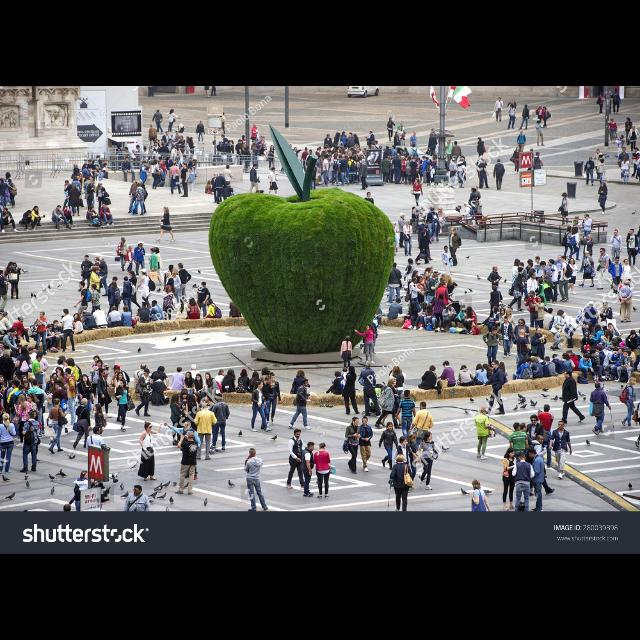head: (528, 448, 536, 460), (134, 485, 142, 497), (472, 480, 481, 490), (564, 370, 572, 380), (491, 360, 499, 370), (531, 416, 539, 426), (507, 448, 515, 458), (400, 436, 408, 446), (393, 366, 401, 376), (352, 418, 360, 428), (307, 442, 315, 452), (302, 378, 310, 388), (187, 394, 195, 404), (144, 422, 152, 432), (94, 426, 102, 436), (30, 410, 38, 420), (55, 380, 63, 390), (18, 394, 26, 404), (26, 394, 34, 404), (518, 318, 526, 328), (557, 422, 565, 431), (520, 423, 528, 432), (294, 429, 302, 438), (188, 432, 196, 441), (184, 422, 192, 431), (81, 472, 89, 481), (27, 412, 35, 421), (12, 379, 20, 388), (479, 407, 487, 415), (513, 423, 521, 431), (536, 436, 544, 444), (518, 454, 526, 462), (396, 455, 404, 463), (425, 433, 433, 441), (409, 436, 417, 444), (419, 403, 427, 411), (389, 379, 397, 387), (319, 442, 327, 450), (257, 382, 265, 390), (216, 393, 224, 401), (204, 395, 212, 403), (172, 395, 180, 403), (99, 369, 107, 377), (2, 414, 10, 422), (67, 359, 75, 367), (31, 379, 39, 387), (18, 346, 26, 354), (10, 329, 18, 337), (476, 364, 484, 372), (583, 354, 591, 362), (544, 404, 550, 414), (250, 449, 256, 459), (270, 374, 276, 384), (182, 390, 188, 400), (65, 368, 71, 378), (95, 404, 102, 412), (32, 379, 40, 386), (37, 351, 44, 359), (8, 328, 15, 336), (562, 354, 570, 361), (387, 422, 393, 431), (630, 378, 636, 386), (405, 390, 411, 398), (390, 378, 396, 386), (362, 417, 368, 425), (266, 377, 272, 385), (202, 402, 208, 410), (195, 392, 201, 400), (144, 369, 150, 377), (120, 380, 126, 388), (118, 372, 124, 380), (97, 359, 103, 367), (94, 356, 100, 364), (82, 374, 88, 382), (60, 356, 66, 364), (57, 367, 63, 375), (0, 382, 6, 390), (37, 354, 43, 362), (4, 350, 10, 358), (18, 316, 24, 324), (53, 320, 59, 328), (151, 300, 157, 308), (186, 372, 192, 380), (196, 374, 202, 382), (220, 369, 226, 377), (334, 372, 342, 378), (552, 354, 560, 360), (567, 350, 573, 358), (558, 312, 566, 318), (558, 310, 564, 318), (536, 328, 542, 336), (492, 328, 498, 336), (506, 308, 512, 316), (427, 305, 433, 313), (422, 302, 428, 310), (518, 262, 524, 270), (528, 262, 534, 270), (540, 261, 546, 269), (600, 248, 606, 256), (82, 399, 88, 406), (54, 399, 60, 406), (68, 359, 74, 366), (78, 282, 85, 288), (84, 255, 90, 262), (205, 374, 211, 381), (228, 369, 234, 376), (444, 362, 451, 368), (590, 349, 596, 356), (519, 329, 525, 336), (595, 383, 601, 389), (365, 362, 371, 368), (349, 367, 355, 373), (154, 374, 160, 380), (58, 360, 64, 366), (52, 374, 58, 380), (51, 378, 57, 384), (57, 376, 63, 382), (19, 386, 25, 392), (3, 313, 9, 319), (40, 312, 46, 318), (46, 325, 52, 331), (63, 309, 69, 315), (8, 262, 14, 268), (12, 263, 18, 269), (74, 314, 80, 320), (94, 307, 100, 313), (91, 284, 97, 290), (94, 267, 100, 273), (112, 278, 118, 284), (129, 272, 135, 278), (141, 269, 147, 275), (138, 241, 144, 247), (150, 248, 156, 254), (154, 247, 160, 253), (163, 206, 169, 212), (111, 307, 117, 313), (124, 307, 130, 313), (166, 286, 172, 292), (166, 273, 172, 279), (173, 269, 179, 275), (169, 265, 175, 271), (177, 264, 183, 270), (114, 367, 120, 373), (141, 364, 147, 370), (158, 367, 164, 373), (177, 367, 183, 373), (191, 365, 197, 371), (241, 370, 247, 376), (253, 372, 259, 378), (298, 371, 304, 377), (345, 336, 351, 342), (366, 325, 372, 331), (368, 318, 374, 324), (430, 366, 436, 372), (461, 365, 467, 371), (482, 364, 488, 370), (500, 363, 506, 369), (526, 358, 532, 364), (618, 349, 624, 355), (623, 352, 629, 358), (588, 301, 594, 307), (603, 303, 609, 309), (622, 279, 628, 285), (548, 308, 554, 314), (500, 309, 506, 315), (493, 307, 499, 313), (467, 307, 473, 313), (461, 306, 467, 312), (446, 304, 452, 310), (396, 298, 402, 304), (391, 262, 397, 268), (408, 259, 414, 265), (404, 220, 410, 226), (400, 213, 406, 219), (421, 231, 427, 237), (450, 228, 456, 234), (412, 278, 418, 284), (417, 276, 423, 282), (414, 271, 420, 277), (424, 271, 430, 277), (433, 274, 439, 280), (442, 283, 448, 289), (445, 276, 451, 282), (493, 266, 499, 272), (518, 267, 524, 273), (529, 291, 535, 297), (538, 296, 544, 302), (537, 278, 543, 284), (531, 273, 537, 279), (535, 257, 541, 263), (549, 260, 555, 266), (561, 256, 567, 262), (629, 229, 635, 235), (567, 226, 573, 232), (574, 216, 580, 222), (584, 214, 590, 220), (562, 193, 568, 199), (600, 158, 606, 164), (132, 180, 138, 186), (138, 180, 144, 186), (98, 182, 104, 188), (89, 180, 95, 186), (182, 163, 188, 169), (202, 282, 206, 290), (504, 317, 508, 325), (342, 368, 348, 372), (33, 350, 39, 354), (0, 270, 4, 276), (9, 263, 13, 269), (82, 312, 88, 316), (100, 257, 104, 263), (124, 277, 128, 283), (142, 302, 146, 308), (190, 298, 194, 304), (208, 299, 212, 305), (532, 358, 536, 364), (536, 357, 540, 363), (546, 357, 550, 363), (625, 282, 631, 286), (440, 294, 444, 300), (412, 302, 416, 308), (392, 223, 396, 229), (424, 225, 430, 229), (438, 207, 442, 213), (464, 202, 468, 208), (472, 188, 476, 194), (367, 192, 371, 198), (444, 246, 448, 252), (492, 286, 498, 290), (516, 259, 520, 265), (528, 260, 532, 266), (558, 256, 562, 262), (570, 259, 574, 265), (586, 251, 590, 257), (616, 257, 620, 263), (624, 260, 628, 266), (614, 230, 618, 236), (588, 234, 592, 240), (574, 227, 578, 233), (634, 148, 640, 152), (632, 126, 636, 132), (520, 130, 524, 136), (482, 160, 486, 166), (479, 156, 483, 162), (460, 156, 466, 160), (448, 138, 452, 144), (368, 131, 374, 135), (254, 164, 258, 170), (226, 182, 230, 188), (214, 173, 218, 179), (170, 108, 174, 114), (66, 206, 70, 212), (56, 206, 62, 210), (34, 206, 38, 212), (28, 210, 32, 216), (4, 208, 8, 214), (0, 178, 4, 184), (72, 185, 78, 189), (624, 279, 628, 285), (94, 258, 98, 262), (113, 282, 117, 286), (122, 238, 126, 242), (129, 247, 133, 251), (234, 298, 238, 302), (430, 208, 434, 212), (476, 202, 480, 206), (416, 179, 420, 183), (602, 183, 606, 187), (624, 157, 628, 161), (622, 148, 626, 152), (589, 157, 593, 161), (596, 150, 600, 154), (620, 135, 624, 139), (626, 118, 630, 122), (614, 89, 618, 93), (537, 120, 541, 124), (511, 104, 515, 108), (512, 99, 516, 103), (498, 97, 502, 101), (536, 152, 540, 156), (530, 149, 534, 153), (516, 147, 520, 151), (497, 159, 501, 163), (478, 138, 482, 142), (452, 159, 456, 163), (454, 141, 458, 145), (430, 133, 434, 137), (412, 144, 416, 148), (404, 148, 408, 152), (392, 146, 396, 150), (362, 160, 366, 164), (272, 168, 276, 172), (220, 172, 224, 176), (208, 181, 212, 185), (271, 145, 275, 149), (254, 124, 258, 128), (156, 110, 160, 114), (136, 184, 140, 188), (102, 204, 106, 208), (90, 206, 94, 210), (8, 180, 12, 184), (6, 176, 10, 180), (189, 168, 193, 172), (173, 162, 177, 166), (154, 160, 158, 164), (125, 158, 129, 162), (143, 162, 147, 166), (422, 156, 426, 160), (386, 146, 389, 150), (396, 132, 399, 136), (400, 126, 402, 132), (227, 165, 230, 169), (222, 112, 225, 116), (476, 187, 478, 191), (612, 119, 614, 123), (608, 88, 610, 92), (602, 93, 604, 97), (544, 107, 546, 111), (540, 106, 542, 110), (526, 105, 528, 109), (414, 131, 416, 135), (400, 122, 402, 126), (390, 118, 392, 122), (256, 126, 258, 130), (200, 121, 202, 125), (150, 124, 152, 128)
person: (164, 421, 202, 481), (120, 484, 152, 554), (524, 434, 556, 498), (137, 421, 167, 482), (386, 454, 414, 518), (510, 452, 536, 520), (173, 430, 199, 496), (243, 448, 269, 512), (408, 401, 434, 464), (374, 376, 404, 429), (558, 369, 586, 425), (588, 382, 616, 436), (312, 442, 338, 500), (482, 359, 508, 416), (508, 422, 530, 488), (548, 421, 572, 481), (358, 360, 382, 420), (194, 402, 218, 462), (472, 406, 498, 460), (378, 378, 406, 428), (416, 431, 439, 491), (470, 478, 492, 540), (286, 428, 308, 490), (20, 411, 42, 473), (525, 448, 545, 516), (50, 358, 78, 406), (500, 447, 520, 513), (208, 392, 230, 452), (514, 422, 538, 476), (394, 390, 418, 444), (288, 378, 312, 432), (391, 436, 413, 494), (8, 384, 30, 442), (250, 381, 274, 434), (89, 368, 113, 420), (11, 394, 34, 448), (114, 378, 136, 434), (47, 398, 69, 454), (26, 378, 46, 439), (85, 425, 106, 483), (525, 414, 545, 474), (342, 416, 362, 474), (29, 378, 49, 436), (536, 404, 554, 468), (378, 421, 400, 471), (7, 379, 26, 436), (618, 376, 638, 430), (23, 408, 42, 464), (1, 413, 18, 475), (404, 433, 422, 491), (72, 398, 92, 450), (13, 347, 33, 398), (341, 365, 361, 415), (134, 368, 154, 418), (76, 374, 96, 424), (511, 318, 531, 368), (264, 373, 282, 427), (431, 292, 454, 334), (68, 470, 92, 510), (89, 359, 108, 409), (529, 327, 547, 379), (358, 415, 374, 473), (184, 394, 200, 452), (354, 324, 376, 366), (482, 327, 504, 369), (64, 358, 84, 404), (28, 311, 48, 357), (73, 281, 93, 327), (506, 267, 526, 313), (91, 355, 109, 405), (300, 442, 316, 498), (176, 388, 192, 444), (516, 328, 532, 384), (136, 268, 156, 312), (404, 276, 424, 320), (595, 247, 615, 291), (1, 348, 18, 399), (169, 393, 185, 447), (52, 380, 68, 434), (2, 328, 26, 364), (125, 270, 144, 314), (114, 372, 130, 424), (582, 300, 600, 346), (500, 308, 518, 354), (32, 351, 49, 399), (108, 364, 132, 398), (64, 358, 80, 408), (54, 375, 70, 425), (24, 394, 40, 444), (436, 282, 456, 322), (156, 206, 177, 244), (322, 371, 346, 404), (600, 301, 618, 345), (548, 308, 566, 352), (385, 262, 403, 306), (528, 295, 546, 339), (540, 260, 558, 304), (92, 403, 108, 452), (31, 353, 47, 402), (34, 323, 60, 353), (133, 362, 153, 400), (360, 318, 380, 356), (437, 360, 457, 398), (559, 311, 579, 349), (532, 278, 552, 316), (578, 250, 598, 288), (260, 376, 274, 430), (558, 255, 574, 302), (614, 350, 636, 384), (390, 366, 406, 412), (56, 355, 72, 401), (524, 290, 540, 336), (202, 394, 216, 446), (190, 392, 204, 444), (65, 368, 77, 428), (53, 367, 69, 411), (60, 308, 76, 352), (89, 266, 105, 310), (195, 282, 211, 326), (512, 358, 534, 390), (618, 280, 634, 324), (608, 256, 624, 300), (616, 277, 632, 321), (78, 255, 96, 293), (147, 248, 165, 286), (441, 274, 459, 312), (150, 366, 170, 400), (290, 369, 310, 403), (418, 365, 438, 399), (456, 364, 476, 398), (586, 349, 606, 383), (48, 376, 62, 424), (88, 284, 104, 326), (94, 256, 110, 298), (162, 264, 178, 306), (618, 258, 634, 300), (184, 364, 202, 401), (44, 372, 60, 413), (9, 328, 27, 364), (220, 369, 238, 405), (94, 182, 112, 218), (120, 276, 134, 322), (107, 281, 123, 321), (414, 276, 430, 316), (488, 285, 504, 325), (487, 265, 503, 305), (562, 349, 584, 378), (78, 310, 99, 340), (578, 352, 598, 383), (178, 262, 192, 306), (149, 373, 167, 407), (204, 372, 222, 406), (235, 370, 253, 404), (608, 348, 626, 382), (418, 224, 434, 262), (425, 206, 441, 244), (564, 258, 580, 296), (578, 234, 594, 272), (500, 316, 514, 359), (203, 298, 223, 328), (478, 363, 498, 393), (524, 358, 544, 388), (162, 285, 176, 327), (448, 226, 462, 268), (526, 272, 540, 314), (516, 262, 530, 304), (414, 230, 431, 264), (49, 319, 67, 351), (171, 366, 187, 402), (472, 364, 490, 396), (566, 226, 582, 262), (10, 316, 30, 344), (89, 306, 109, 334), (403, 258, 417, 298), (531, 256, 545, 296), (625, 229, 639, 269), (511, 258, 523, 304), (547, 258, 559, 304), (186, 296, 202, 330), (182, 372, 198, 406), (192, 373, 208, 407), (213, 369, 229, 403), (68, 184, 84, 218), (534, 356, 552, 386), (440, 302, 458, 332), (6, 262, 20, 300), (133, 240, 147, 278), (152, 246, 166, 284), (1, 206, 20, 234), (401, 302, 419, 331), (52, 204, 72, 230), (228, 296, 244, 328), (414, 301, 431, 331), (26, 349, 40, 385), (8, 262, 22, 298), (107, 276, 119, 318), (116, 236, 130, 272), (105, 306, 123, 334), (147, 300, 165, 328), (164, 271, 176, 313), (386, 298, 404, 326), (427, 272, 439, 314), (552, 254, 564, 296), (178, 162, 192, 198), (169, 160, 183, 196), (68, 312, 84, 343), (341, 335, 354, 373), (136, 302, 152, 332), (170, 268, 182, 308), (543, 356, 559, 386), (550, 353, 566, 383), (560, 353, 576, 383), (486, 306, 502, 336), (462, 306, 478, 336), (388, 222, 402, 256), (215, 172, 229, 206), (135, 180, 149, 214), (441, 245, 454, 281), (249, 371, 263, 404), (0, 270, 10, 316), (610, 230, 622, 268), (542, 308, 556, 340), (453, 304, 469, 332), (423, 304, 439, 332), (410, 178, 424, 210), (616, 147, 630, 179), (492, 159, 506, 191), (222, 164, 236, 196), (149, 158, 163, 190), (121, 156, 137, 184), (494, 307, 508, 338), (561, 226, 573, 262), (134, 182, 146, 218), (128, 179, 140, 215), (119, 305, 133, 335), (618, 280, 628, 322), (473, 200, 487, 230), (1, 262, 12, 300), (402, 219, 413, 257), (496, 362, 509, 394), (99, 202, 115, 228), (5, 178, 18, 210), (91, 256, 103, 290), (571, 215, 583, 249), (84, 180, 96, 214), (1, 382, 8, 440), (0, 311, 14, 340), (410, 270, 420, 310), (527, 261, 537, 301), (524, 258, 534, 298), (558, 192, 570, 225), (86, 205, 104, 227), (29, 206, 47, 228), (363, 192, 375, 224), (581, 214, 593, 246), (597, 182, 609, 214), (593, 148, 605, 180), (532, 151, 544, 183), (0, 178, 12, 210), (398, 212, 408, 250), (19, 210, 36, 232), (583, 156, 595, 187), (476, 160, 489, 188), (468, 188, 480, 218), (420, 271, 430, 307), (620, 156, 632, 186), (614, 134, 626, 164), (474, 155, 486, 185), (186, 166, 198, 196), (452, 141, 462, 175), (250, 164, 260, 198), (4, 172, 14, 206), (434, 206, 446, 234), (462, 202, 476, 226), (534, 119, 546, 147), (509, 146, 521, 174), (364, 130, 376, 158), (526, 148, 536, 180), (449, 158, 459, 190), (359, 158, 369, 190), (268, 166, 278, 198), (211, 172, 221, 204), (422, 154, 432, 186), (610, 89, 622, 115), (518, 104, 530, 130), (426, 132, 438, 158), (166, 108, 178, 134), (457, 156, 468, 184), (444, 138, 454, 168), (139, 160, 149, 190), (491, 98, 503, 122), (152, 110, 164, 134), (124, 245, 134, 273), (472, 185, 482, 213), (596, 158, 606, 186), (624, 118, 634, 146), (517, 130, 527, 158), (476, 136, 486, 164), (408, 130, 418, 158), (223, 182, 237, 202), (266, 145, 276, 173), (250, 123, 260, 151), (507, 98, 518, 122), (608, 118, 618, 144), (507, 104, 517, 130), (409, 144, 419, 170), (382, 146, 392, 172), (396, 121, 406, 147), (386, 117, 396, 143), (148, 124, 158, 150), (596, 92, 606, 116), (396, 126, 406, 150), (204, 180, 216, 200), (196, 120, 206, 144), (62, 206, 74, 226), (402, 147, 411, 173), (541, 105, 551, 128), (604, 88, 612, 115), (393, 132, 402, 156), (391, 146, 399, 172), (339, 368, 348, 390), (536, 105, 544, 128), (218, 112, 226, 134), (254, 126, 260, 148)
